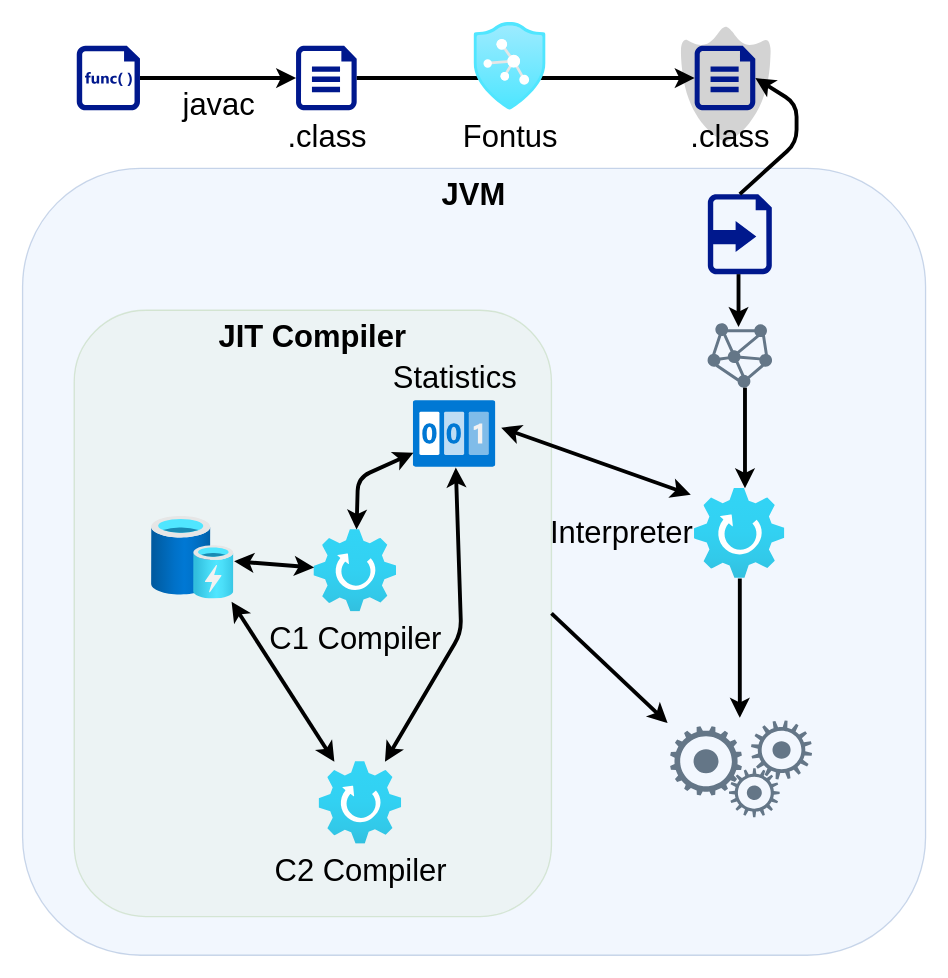
Image size: 948x978. Some labels were removed from this diagram. The shapes that lost their labels are listed below. From the top down, each one's centre as x and y in pixels, then its label:
point (107, 77): .java
point (739, 233): ClassLoader
point (739, 355): class
point (192, 557): Code Cache
point (740, 768): Execution
